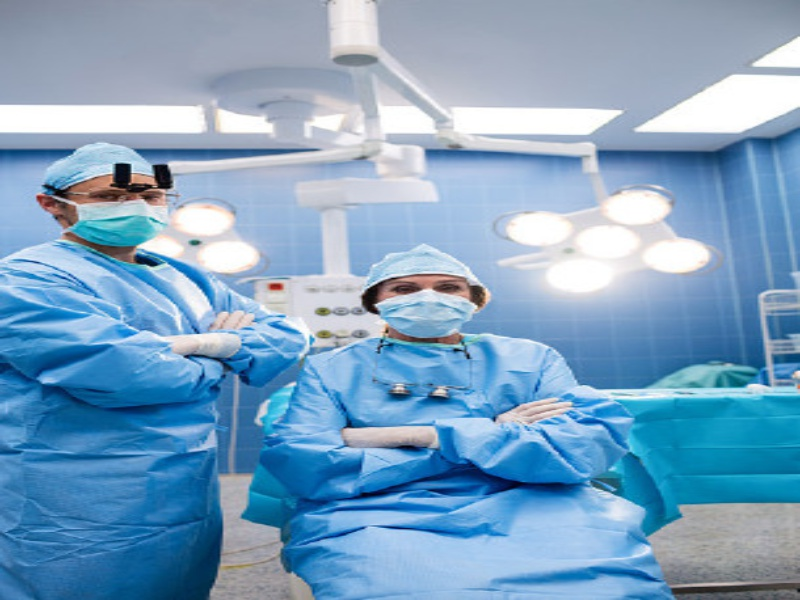mask: (33, 138, 178, 255), (358, 237, 502, 343)
